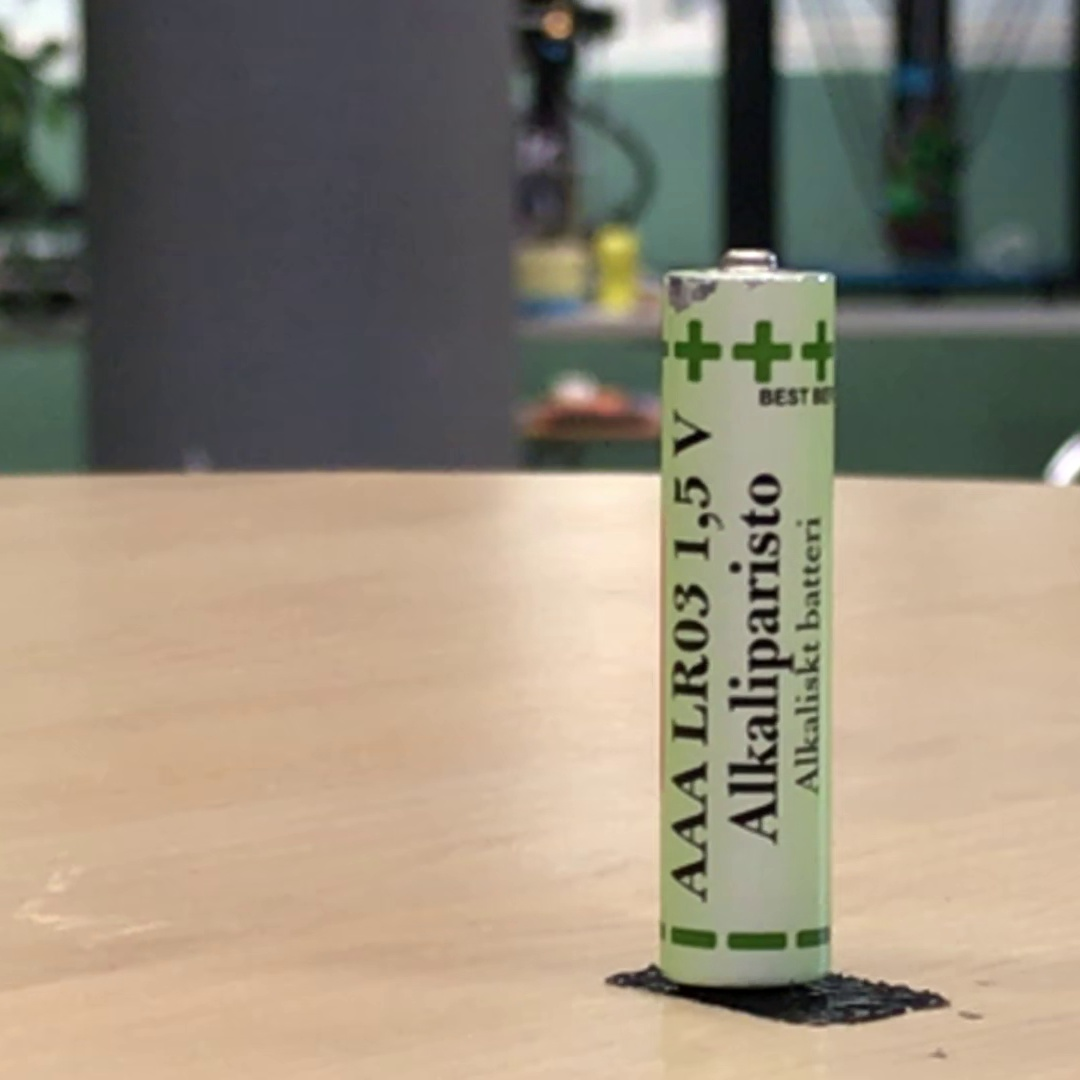keyword: (663, 400, 720, 570), (717, 769, 788, 854)
